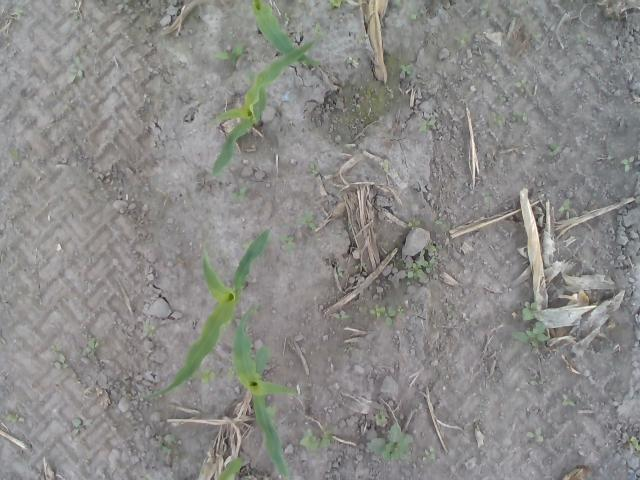Maize: (144, 225, 272, 400), (212, 38, 318, 180), (229, 302, 296, 475), (250, 0, 318, 67), (218, 456, 242, 480)
Weeds: (510, 300, 552, 350), (366, 422, 416, 463), (407, 245, 438, 285), (358, 304, 404, 327), (213, 44, 250, 64), (299, 431, 334, 449), (48, 343, 70, 369), (158, 431, 178, 453), (68, 56, 84, 81), (280, 232, 296, 256), (526, 427, 544, 448), (405, 5, 425, 23), (622, 431, 640, 451), (303, 209, 319, 231), (201, 367, 217, 385), (228, 186, 248, 200), (421, 446, 436, 464), (546, 142, 561, 160), (374, 409, 389, 427), (455, 31, 470, 48), (511, 78, 529, 92), (0, 414, 25, 424), (407, 217, 424, 231), (142, 320, 156, 337), (313, 21, 325, 40), (305, 160, 319, 176), (418, 118, 434, 132), (622, 156, 636, 172), (559, 198, 572, 215), (85, 335, 97, 353), (399, 63, 413, 78), (266, 403, 280, 418), (332, 310, 352, 320), (512, 111, 528, 123), (334, 263, 345, 280), (479, 0, 490, 17), (496, 112, 507, 128), (355, 34, 369, 46), (496, 96, 512, 106), (481, 190, 494, 202), (575, 33, 589, 44), (560, 399, 577, 408), (70, 418, 82, 430), (390, 0, 406, 8), (347, 55, 358, 66), (328, 0, 343, 8), (282, 15, 290, 29), (15, 6, 26, 16), (382, 159, 391, 171), (520, 144, 529, 156), (534, 32, 544, 42), (433, 220, 447, 226), (8, 146, 16, 156), (143, 474, 152, 480)
